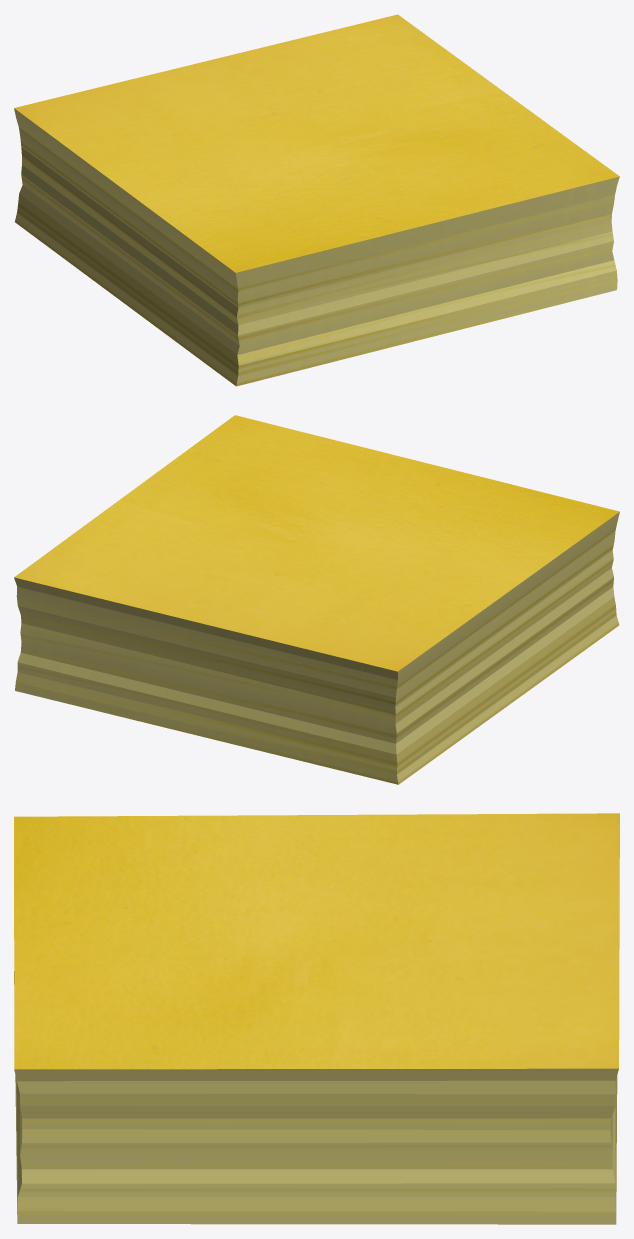
Rendered from note-pad.glb.
The picture shows the model from 3 angles, top to bottom: view 1: azimuth 30°, elevation 25°; view 2: azimuth 150°, elevation 25°; view 3: azimuth 270°, elevation 25°; orthographic projection. The views are drawn at different scales.
Visible parts, largest first — view 1: SINGLE.001; view 2: SINGLE.001; view 3: SINGLE.001.
Boxes of the visible parts, bbox=[...] form: SINGLE.001: bbox=[14, 14, 619, 386]; SINGLE.001: bbox=[14, 415, 619, 784]; SINGLE.001: bbox=[14, 813, 619, 1224].
Bounding box in the file's own units: 1.45 × 0.4192 × 1.45.
3 materials, 3 textured.
